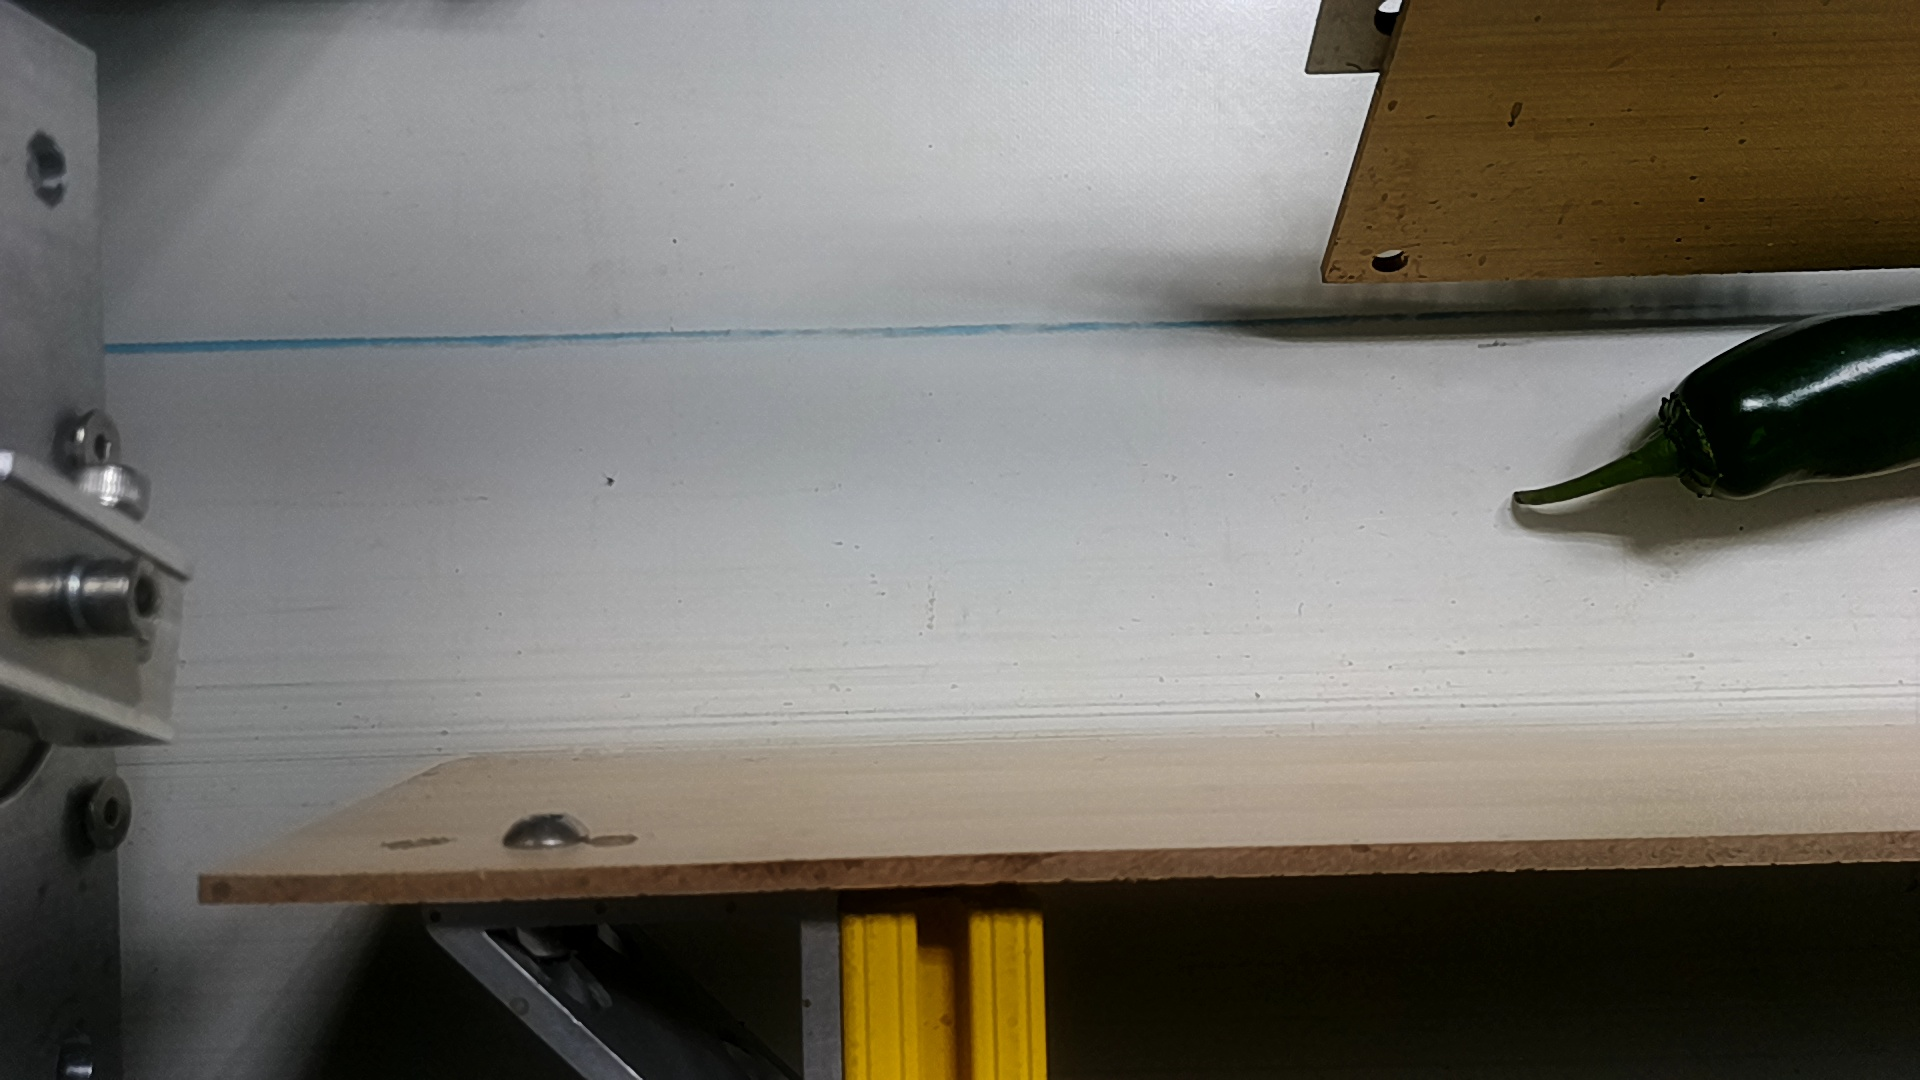Cut Point: (1640, 356, 1753, 502)
